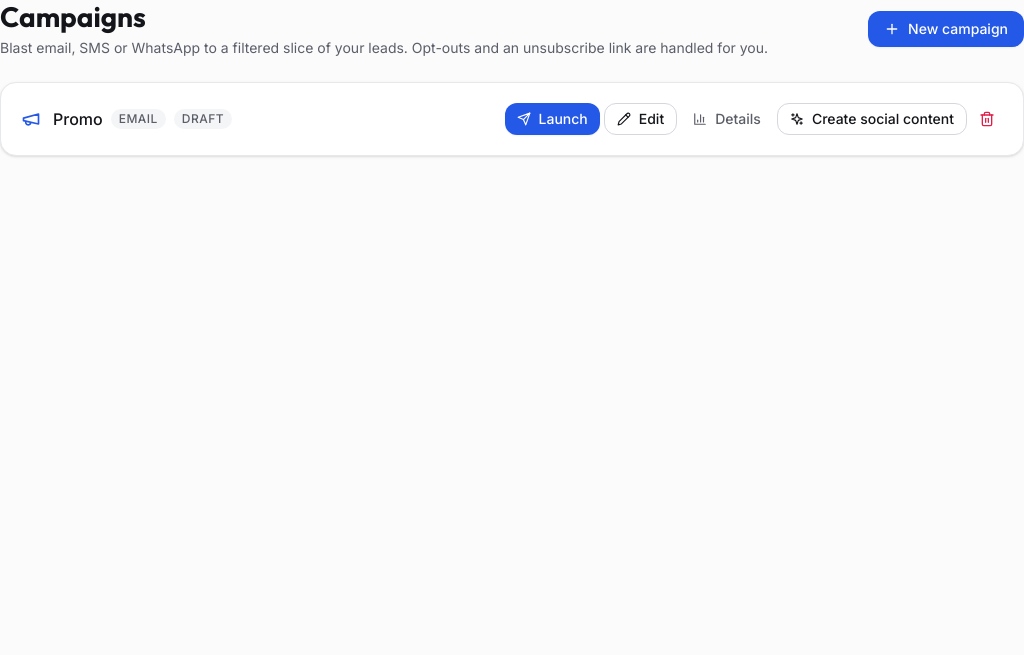
CampaignsPage — channel picker VOICE gate › shows the VOICE option when the workspace has the voiceCampaigns feature
Click the button "New campaign" at (946, 29), box [868,11,1023,47]
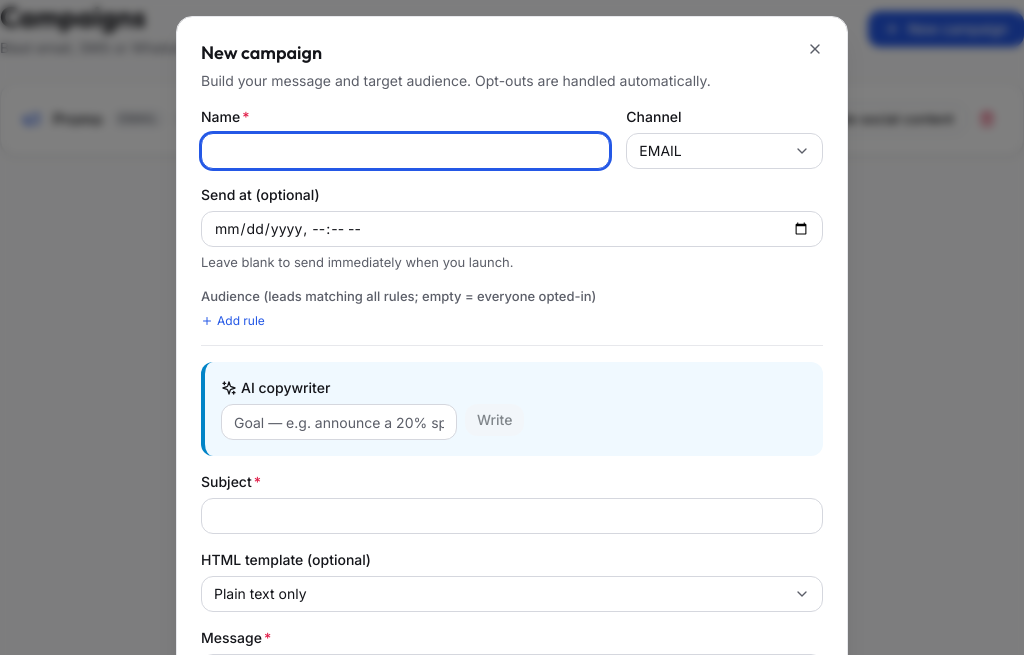
Click the dropdown named "Channel" at (725, 151), box [626,133,823,169]
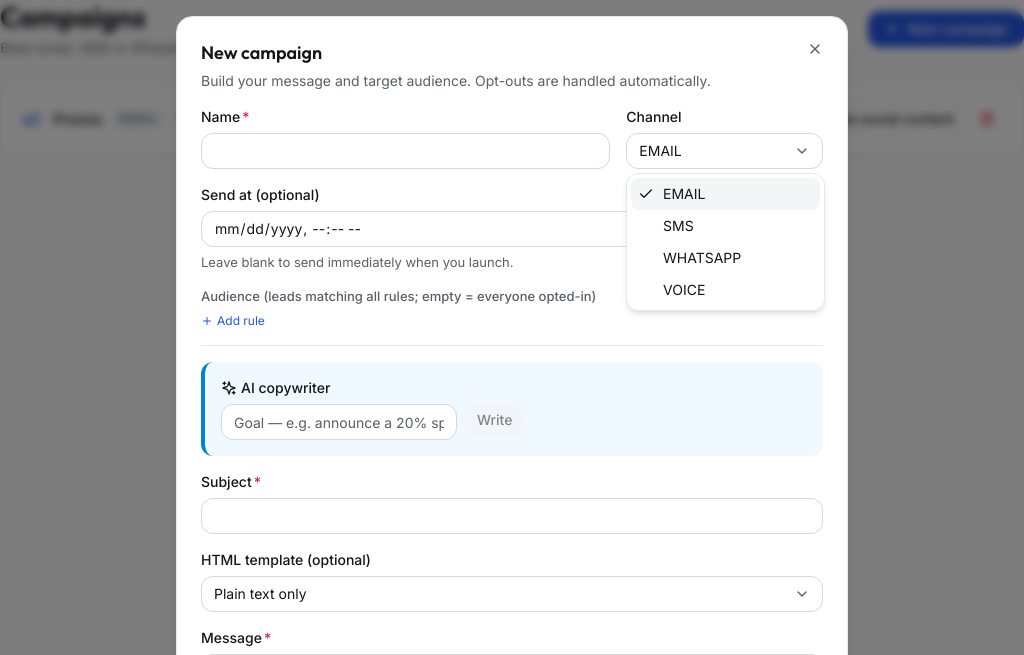
Now the list is shown, box [626,173,825,311]
Now the option "VOICE" is shown, box [663,281,705,298]
